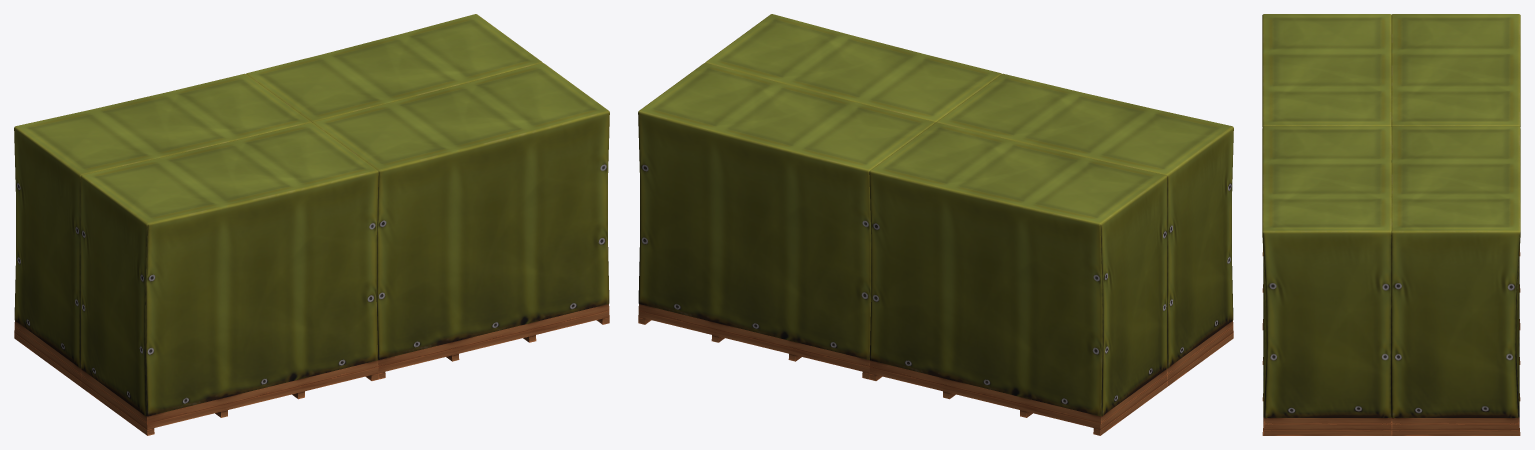
The model's file is Crate03_3.FBX.
3 renders of one model, left to right at view 1: azimuth 30°, elevation 25°; view 2: azimuth 150°, elevation 25°; view 3: azimuth 270°, elevation 25°, orthographic. The views are drawn at different scales.
Parts seen in each view (by area): view 1: Crate03_3; view 2: Crate03_3; view 3: Crate03_3.
Boxes of the visible parts, <box> form: Crate03_3: <box>14,14,609,435</box>; Crate03_3: <box>638,14,1233,435</box>; Crate03_3: <box>1262,14,1520,435</box>.
Size of what is drawn, in the model's own units: 4.01 by 1.76 by 2.01.
